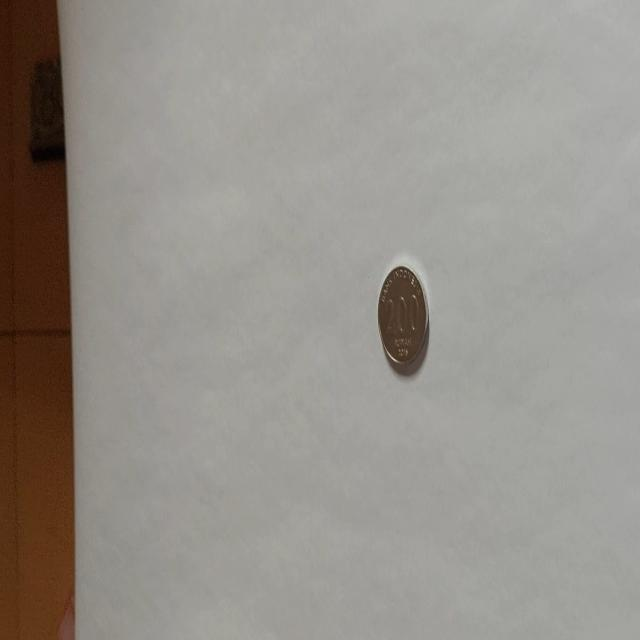dua ratus rupiah: (376, 263, 429, 373)
